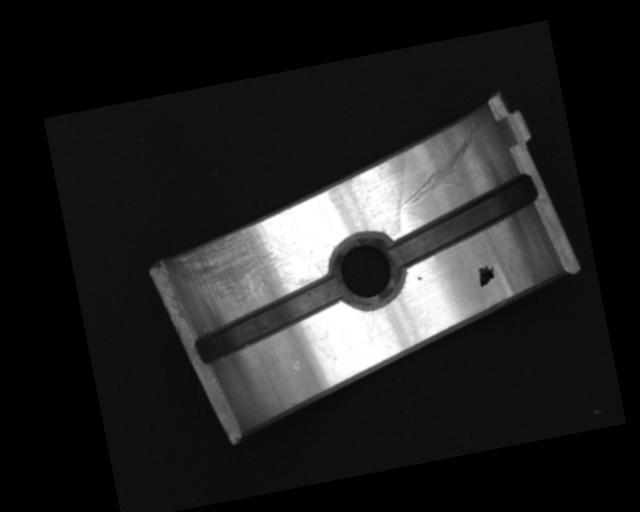blot: (476, 263, 497, 288)
bruise: (291, 358, 301, 371), (417, 276, 422, 281)
gap: (377, 174, 547, 271), (185, 275, 350, 365)
hole: (325, 226, 407, 314)
nick: (382, 118, 493, 213)
scratch: (166, 216, 319, 319)
